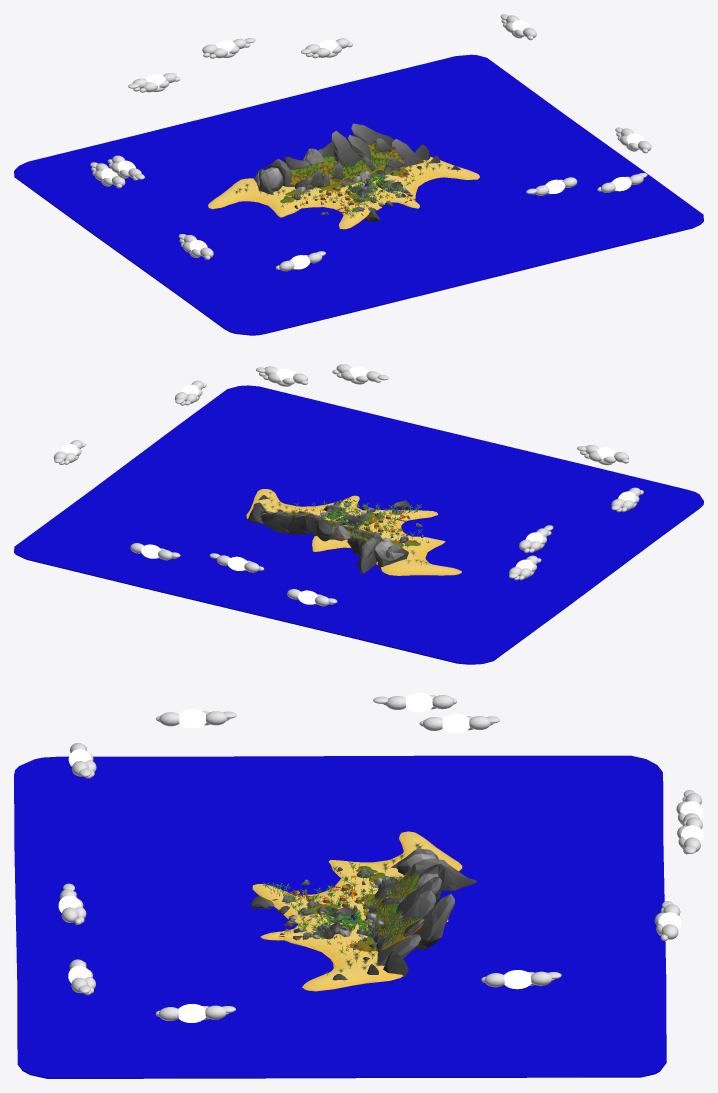
File: tropicalisland2.glb
3 views of the same model, one above another, from view 1: azimuth 30°, elevation 25°; view 2: azimuth 150°, elevation 25°; view 3: azimuth 270°, elevation 25° (orthographic). The views are drawn at different scales.
Visible parts, largest first — view 1: Cube.001, BeachPart_U__6_, BeachPart_U__3_, BeachPart_U__2_, Rock__13_; view 2: Cube.001, BeachPart_U__6_, BeachPart_U__3_, BeachPart_U__2_, Rock__22_, Rock__44_; view 3: Cube.001, BeachPart_U__3_, BeachPart_U__6_, BeachPart_U__2_, Rock__22_, Rock__44_, Rock__24_, Rock__23_.
Part boxes in pixels (bbox=[...]): Cube.001: bbox=[14, 54, 703, 335]; BeachPart_U__6_: bbox=[208, 178, 311, 217]; BeachPart_U__3_: bbox=[371, 156, 479, 199]; BeachPart_U__2_: bbox=[302, 187, 384, 229]; Rock__13_: bbox=[331, 130, 361, 166]; Cube.001: bbox=[14, 385, 703, 664]; BeachPart_U__6_: bbox=[381, 535, 461, 575]; BeachPart_U__3_: bbox=[246, 489, 347, 523]; BeachPart_U__2_: bbox=[358, 509, 437, 538]; Rock__22_: bbox=[260, 512, 291, 533]; Rock__44_: bbox=[357, 537, 380, 573]; Cube.001: bbox=[14, 755, 666, 1078]; BeachPart_U__3_: bbox=[284, 923, 402, 991]; BeachPart_U__6_: bbox=[328, 831, 462, 885]; BeachPart_U__2_: bbox=[252, 878, 378, 923]; Rock__22_: bbox=[411, 894, 454, 950]; Rock__44_: bbox=[404, 858, 476, 890]; Rock__24_: bbox=[377, 934, 421, 965]; Rock__23_: bbox=[399, 890, 435, 947].
Size of the model in its own units: 1062 by 175 by 962.
Materials: 15 (3 with a texture image).
